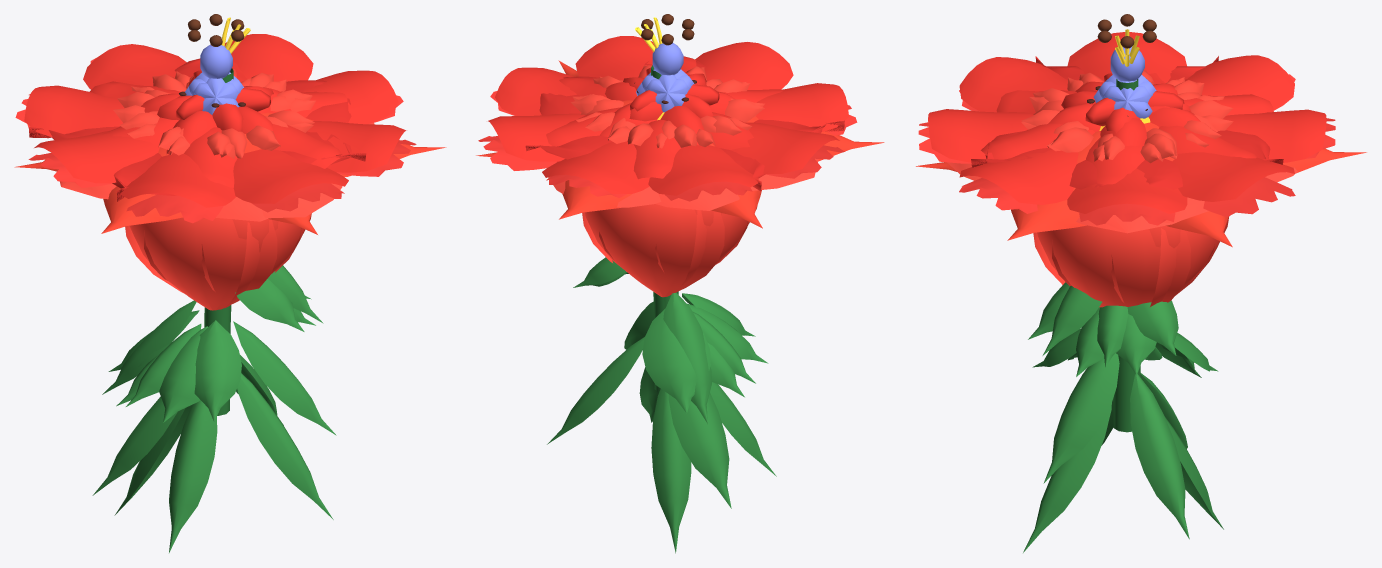
File: flowers_ac.glb
3 views of the same model, side by side, from view 1: azimuth 30°, elevation 25°; view 2: azimuth 150°, elevation 25°; view 3: azimuth 270°, elevation 25° (orthographic). The views are drawn at different scales.
Parts seen in each view (by area): view 1: rose, tul, fmn, mum, sun, daisy, anem, poppy; view 2: rose, tul, fmn, sun, mum, daisy, anem, poppy; view 3: rose, tul, fmn, sun, mum, daisy, anem, poppy.
Boxes of the visible parts, box(x1,y1,x2,y2) form: rose: box(24, 34, 406, 371); tul: box(92, 214, 336, 495); fmn: box(114, 44, 333, 552); mum: box(113, 68, 315, 406); sun: box(14, 14, 446, 394); daisy: box(15, 57, 416, 406); anem: box(28, 58, 366, 422); poppy: box(56, 123, 374, 421); rose: box(488, 36, 848, 413); tul: box(582, 204, 757, 508); fmn: box(547, 43, 776, 553); sun: box(476, 14, 884, 423); mum: box(571, 65, 764, 397); daisy: box(478, 91, 857, 383); anem: box(525, 56, 844, 363); poppy: box(548, 158, 818, 336); rose: box(928, 32, 1326, 371); tul: box(1033, 216, 1229, 483); fmn: box(1023, 46, 1223, 552); sun: box(916, 14, 1366, 377); mum: box(1021, 70, 1233, 376); daisy: box(918, 74, 1335, 367); anem: box(971, 56, 1283, 375); poppy: box(947, 162, 1297, 367).
Size of the model in its own units: 1.04 by 1.48 by 1.13.
